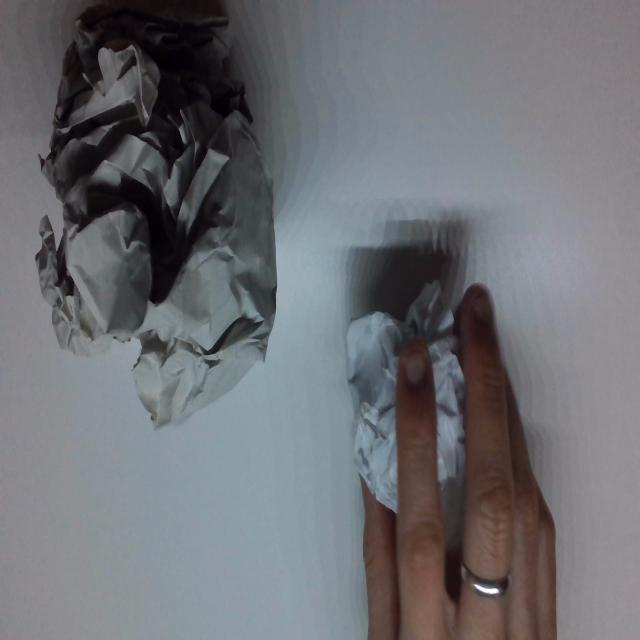Paper: (32, 3, 280, 423)
